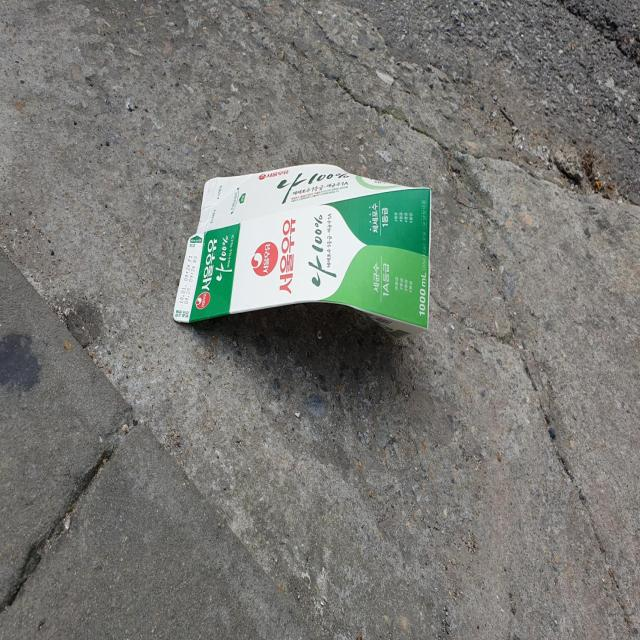paperpack: (173, 162, 432, 329)
